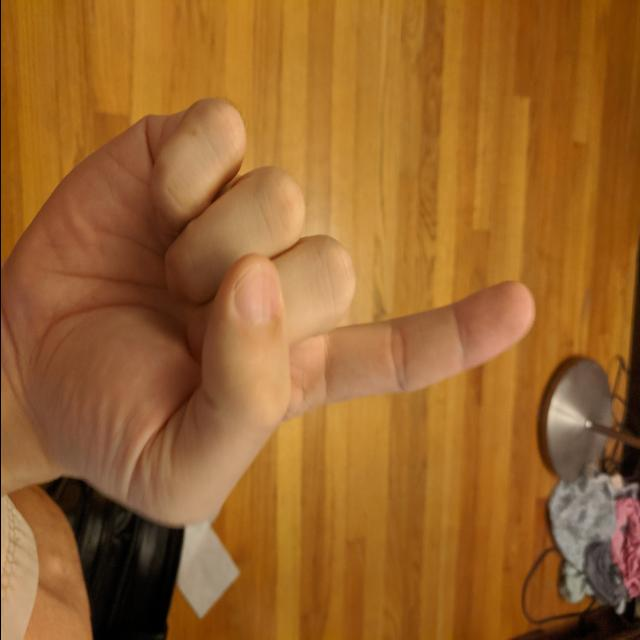D: (0, 89, 541, 537)
